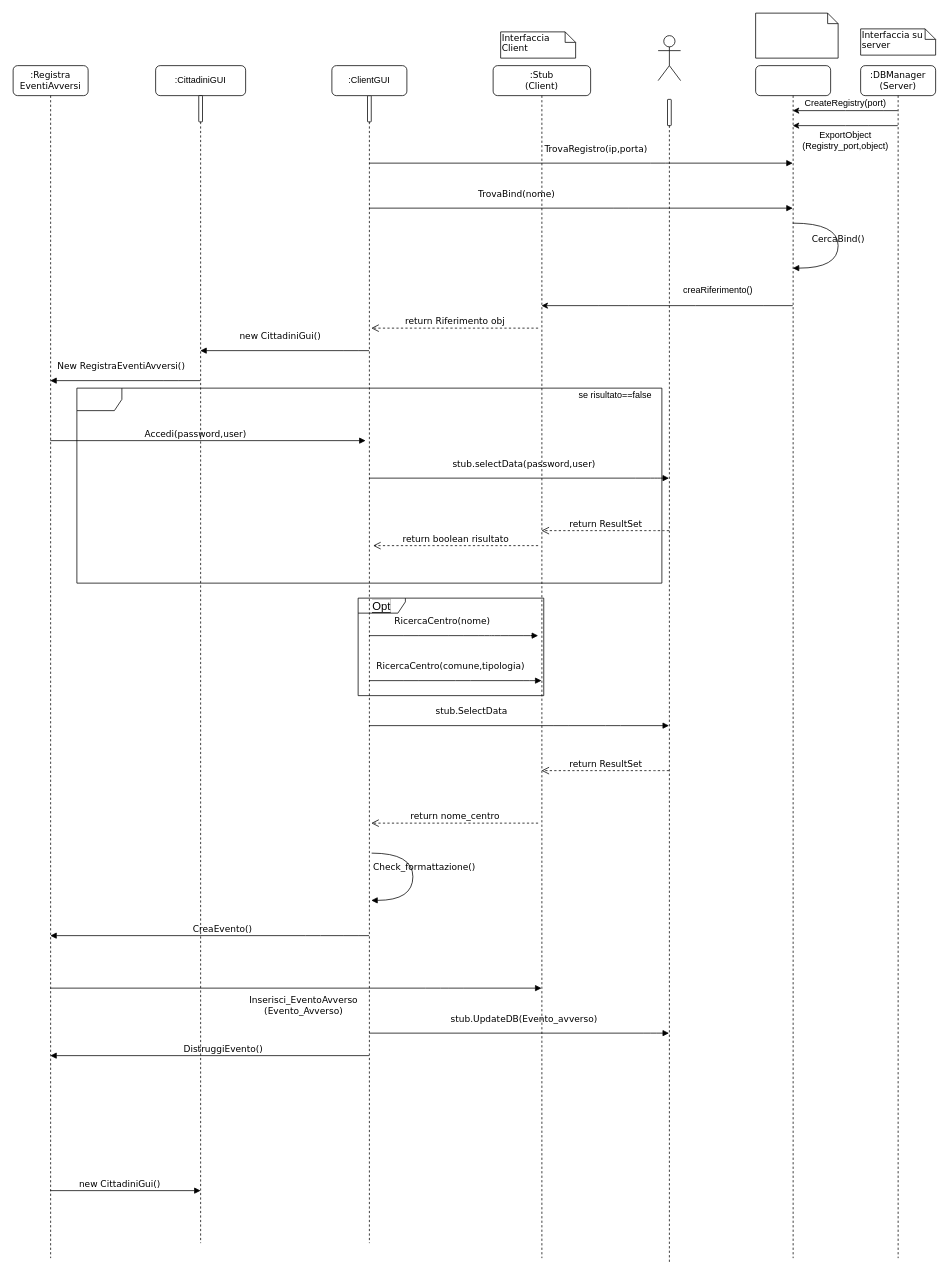
The diagram is 949 pixels wide and 1275 high, and some of its shapes have lost their labels. Each missing label, with the box of its shape:
:Registry (Server): (755, 65, 831, 1258)
Database: (657, 35, 681, 81)
Loop: (76, 387, 662, 583)
Registro contenente i riferimenti su server: (755, 12, 838, 58)
